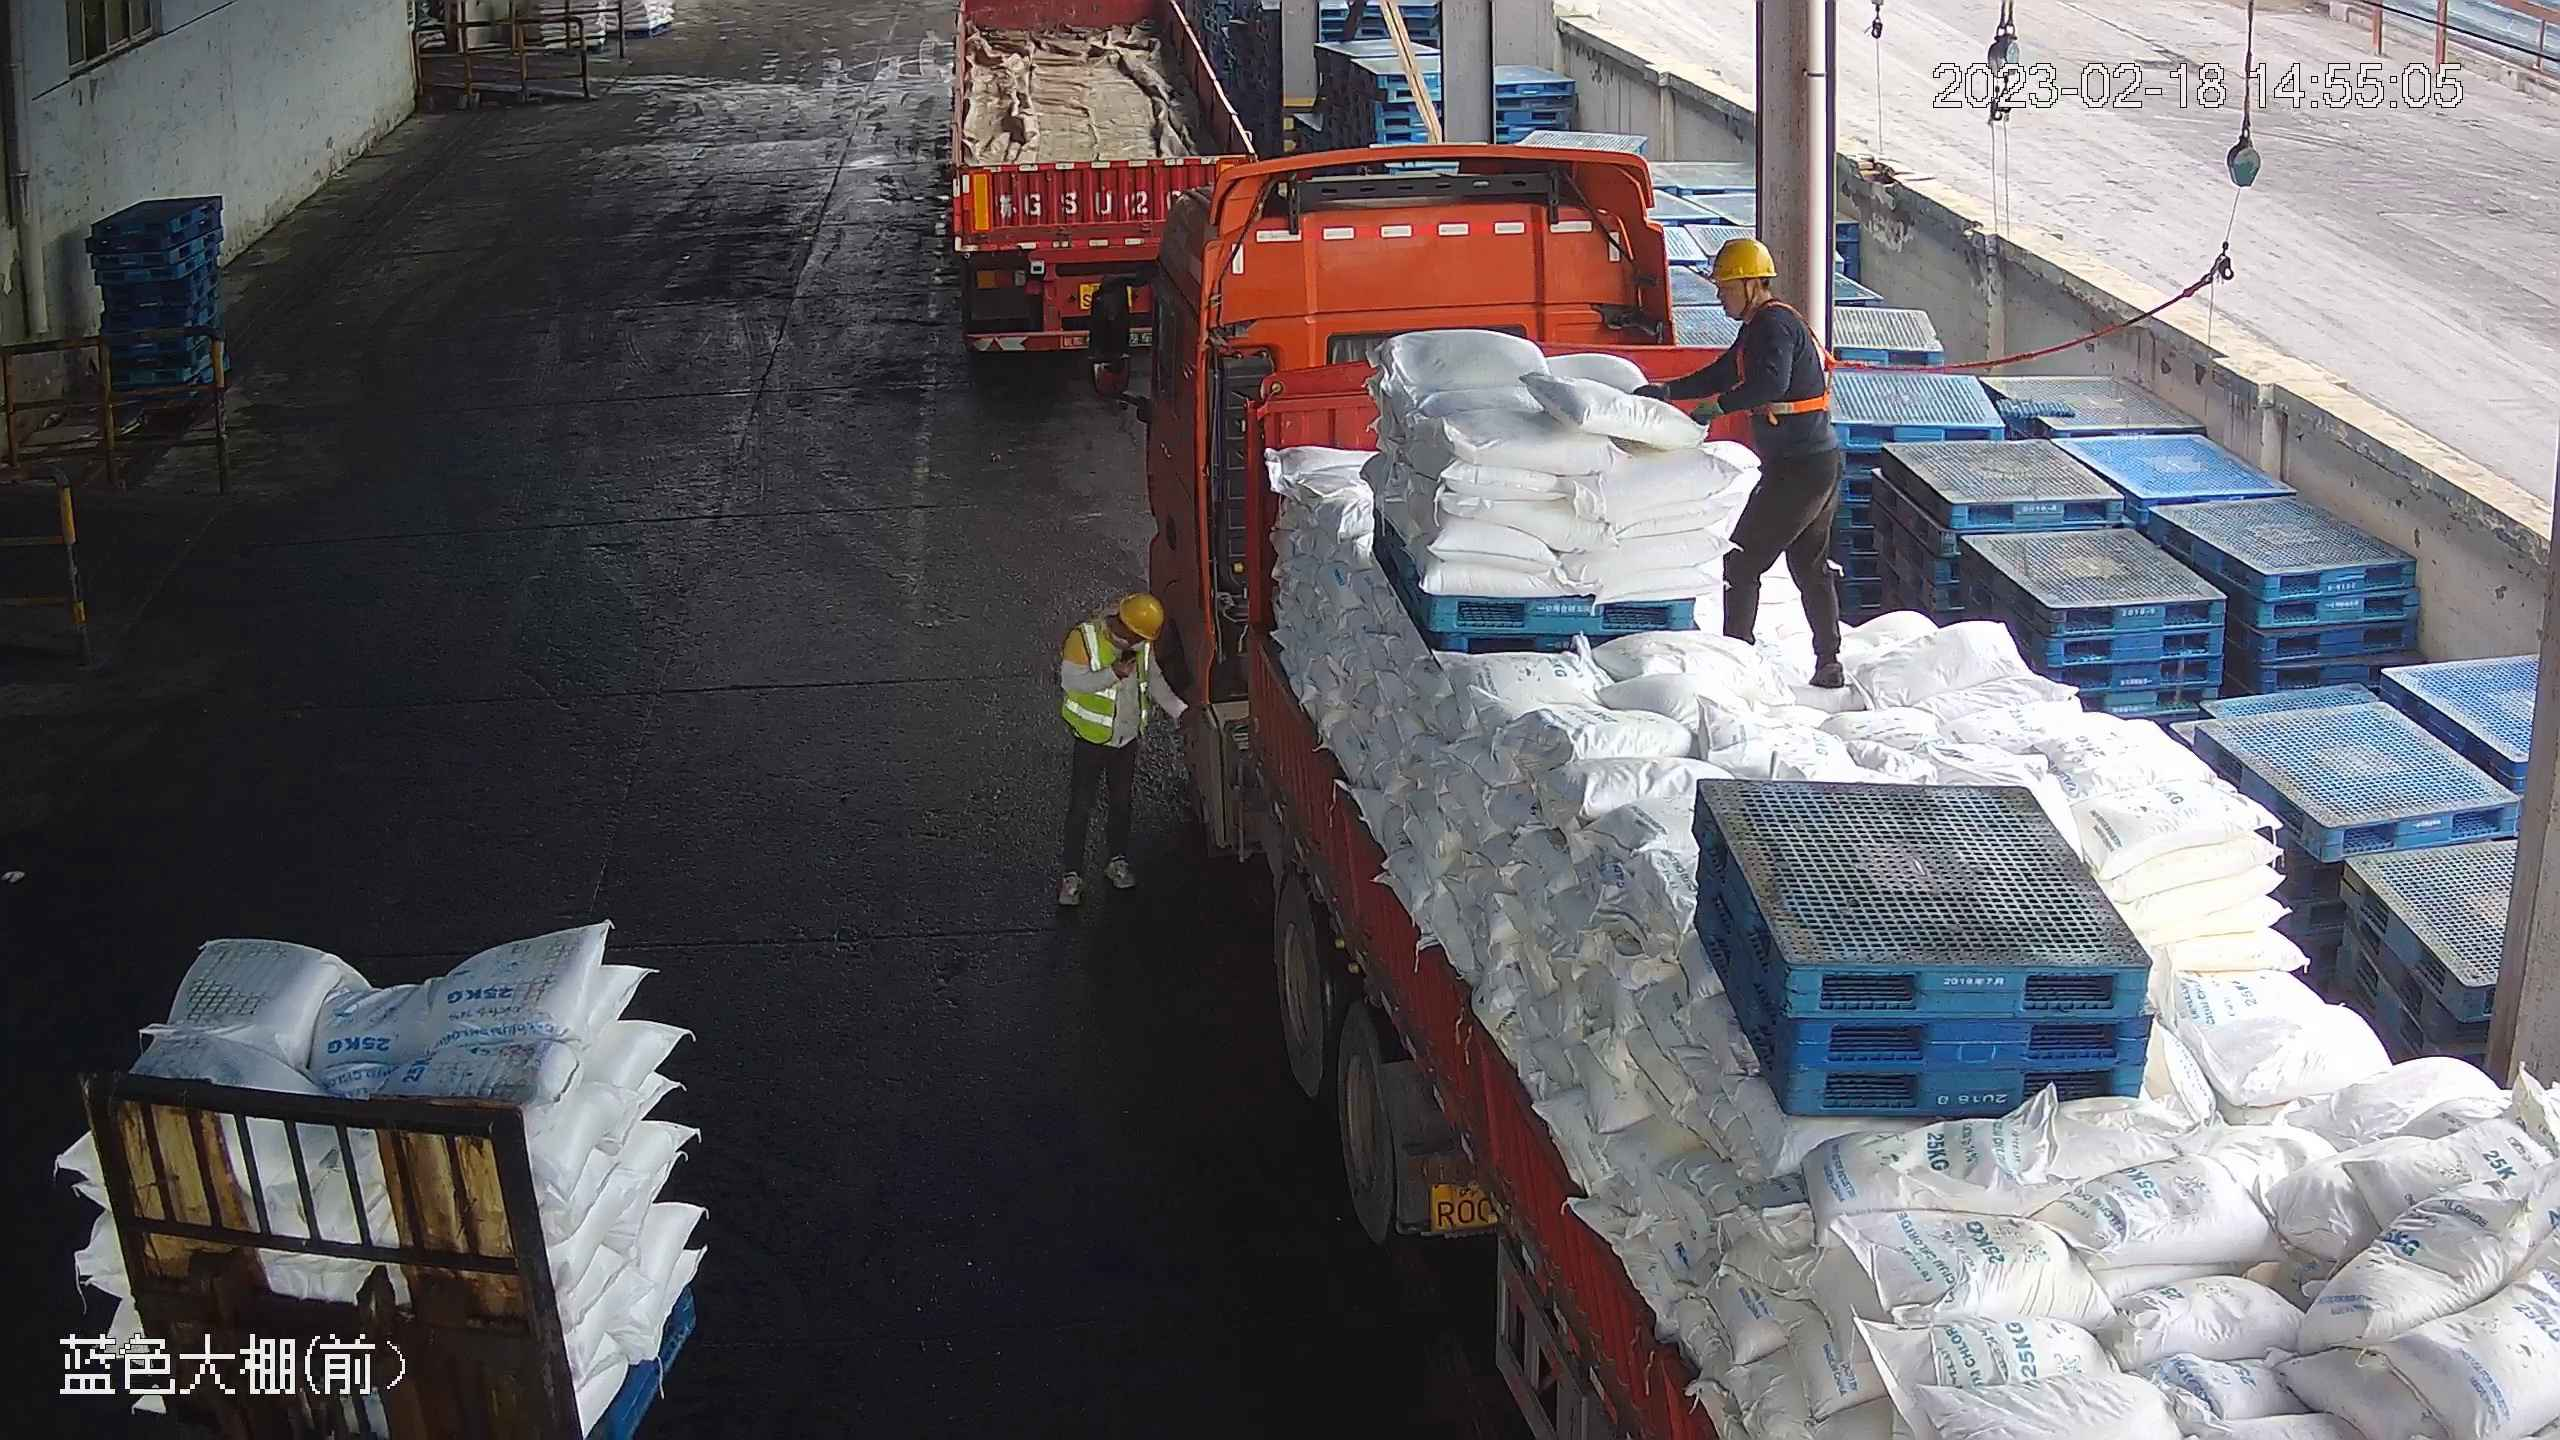belt: (1743, 302, 1841, 418)
head: (1696, 238, 1825, 370), (1065, 590, 1171, 681)
helmet: (1705, 236, 1776, 284), (1118, 591, 1165, 638)
people: (1632, 236, 1855, 686), (1058, 585, 1198, 904)
truck: (1080, 159, 2555, 1438), (936, 4, 1259, 386)
